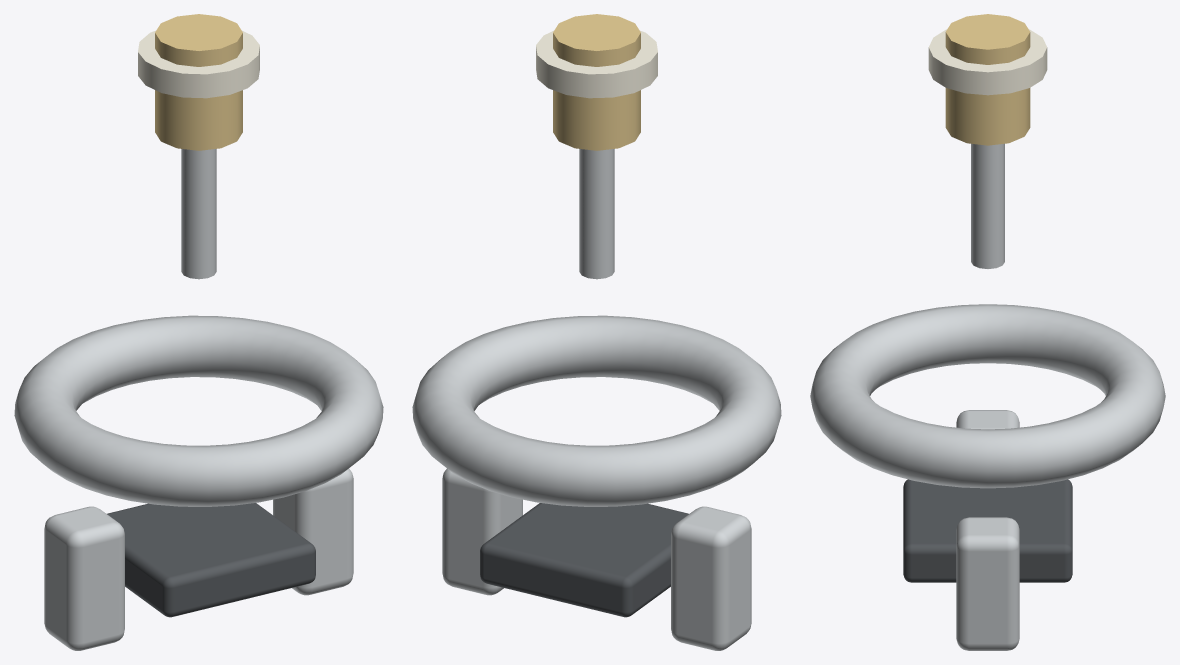
The model's file is geotechnical-soil-testing-laboratory-proving-ring-with-ad8b4314__39056.glb.
3 views of the same model, side by side, from view 1: azimuth 30°, elevation 25°; view 2: azimuth 150°, elevation 25°; view 3: azimuth 270°, elevation 25° (orthographic). The views are drawn at different scales.
Parts seen in each view (by area): view 1: proving-ring-with-gauge; view 2: proving-ring-with-gauge; view 3: proving-ring-with-gauge.
Part boxes in pixels (left/top/right/bottom): proving-ring-with-gauge: left=14, top=14, right=383, bottom=650; proving-ring-with-gauge: left=412, top=14, right=781, bottom=650; proving-ring-with-gauge: left=810, top=14, right=1165, bottom=650.
Bounding box in the file's own units: 0.168 × 0.29 × 0.168.
